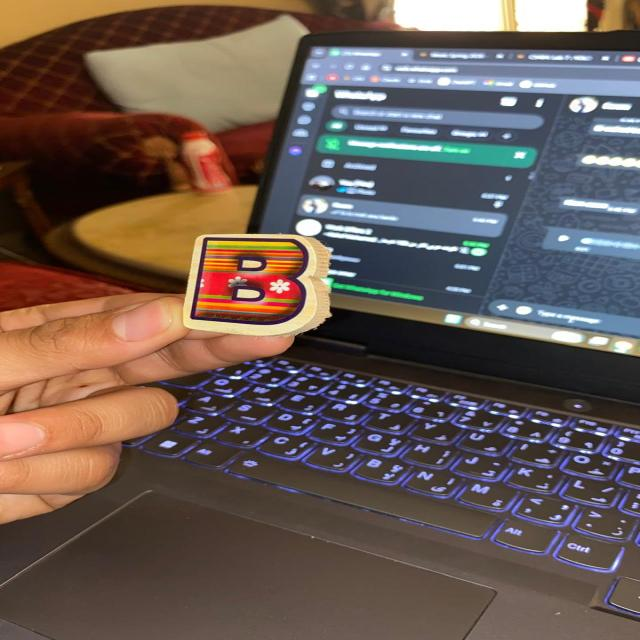B: (183, 234, 330, 336)
